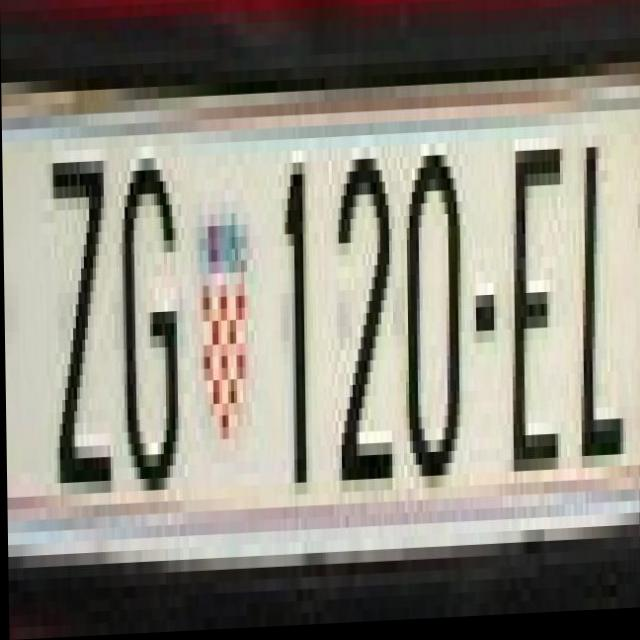0: (402, 148, 459, 494)
1: (280, 142, 309, 511)
2: (331, 138, 397, 509)
E: (505, 132, 563, 489)
G: (114, 147, 180, 505)
L: (561, 129, 622, 487)
Z: (43, 126, 112, 496)
